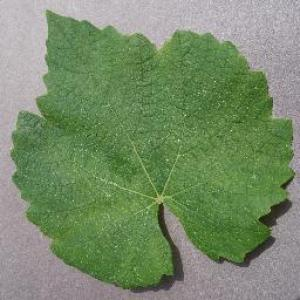Folha: (9, 8, 296, 291)
